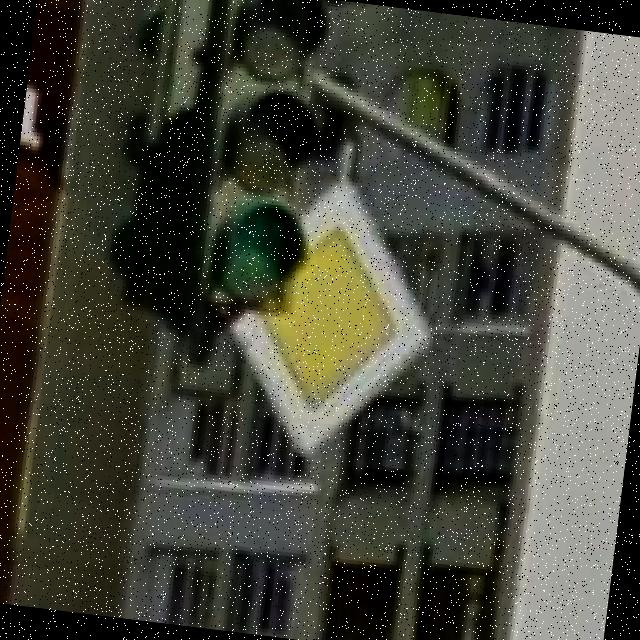Droga z pierwszenstwem: (208, 165, 454, 478)
